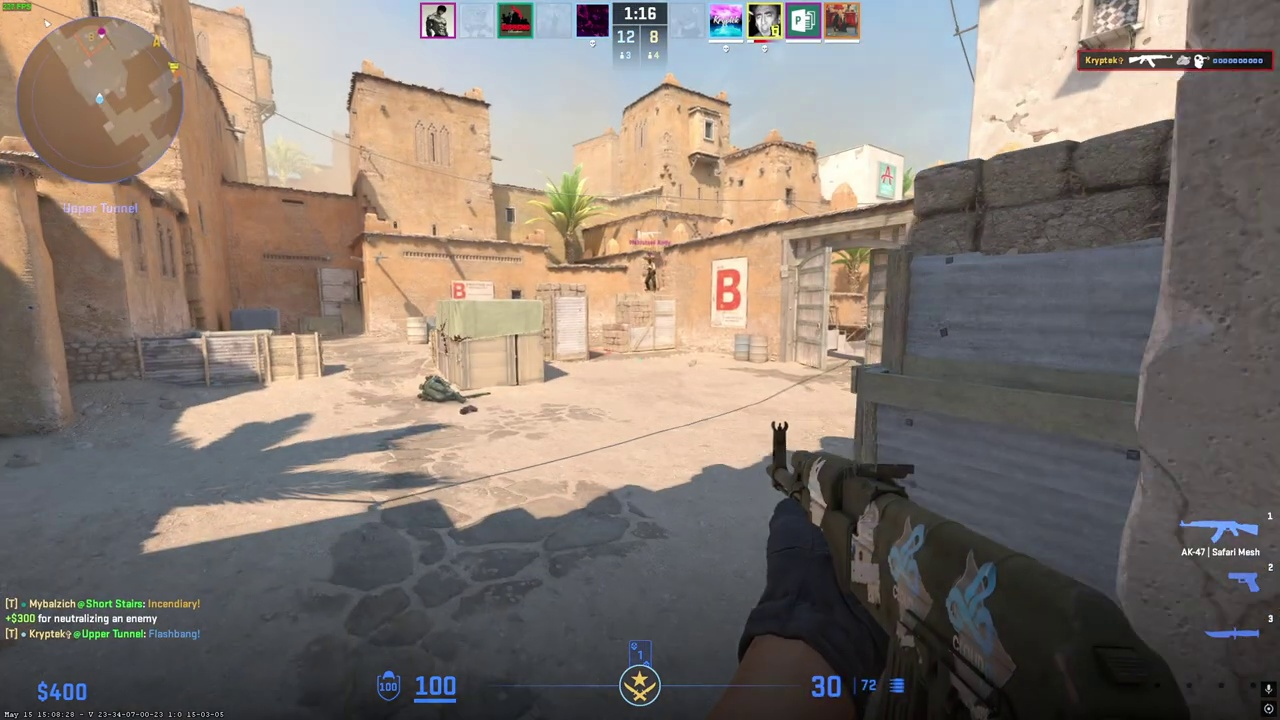Terrorist: (644, 259, 657, 291)
